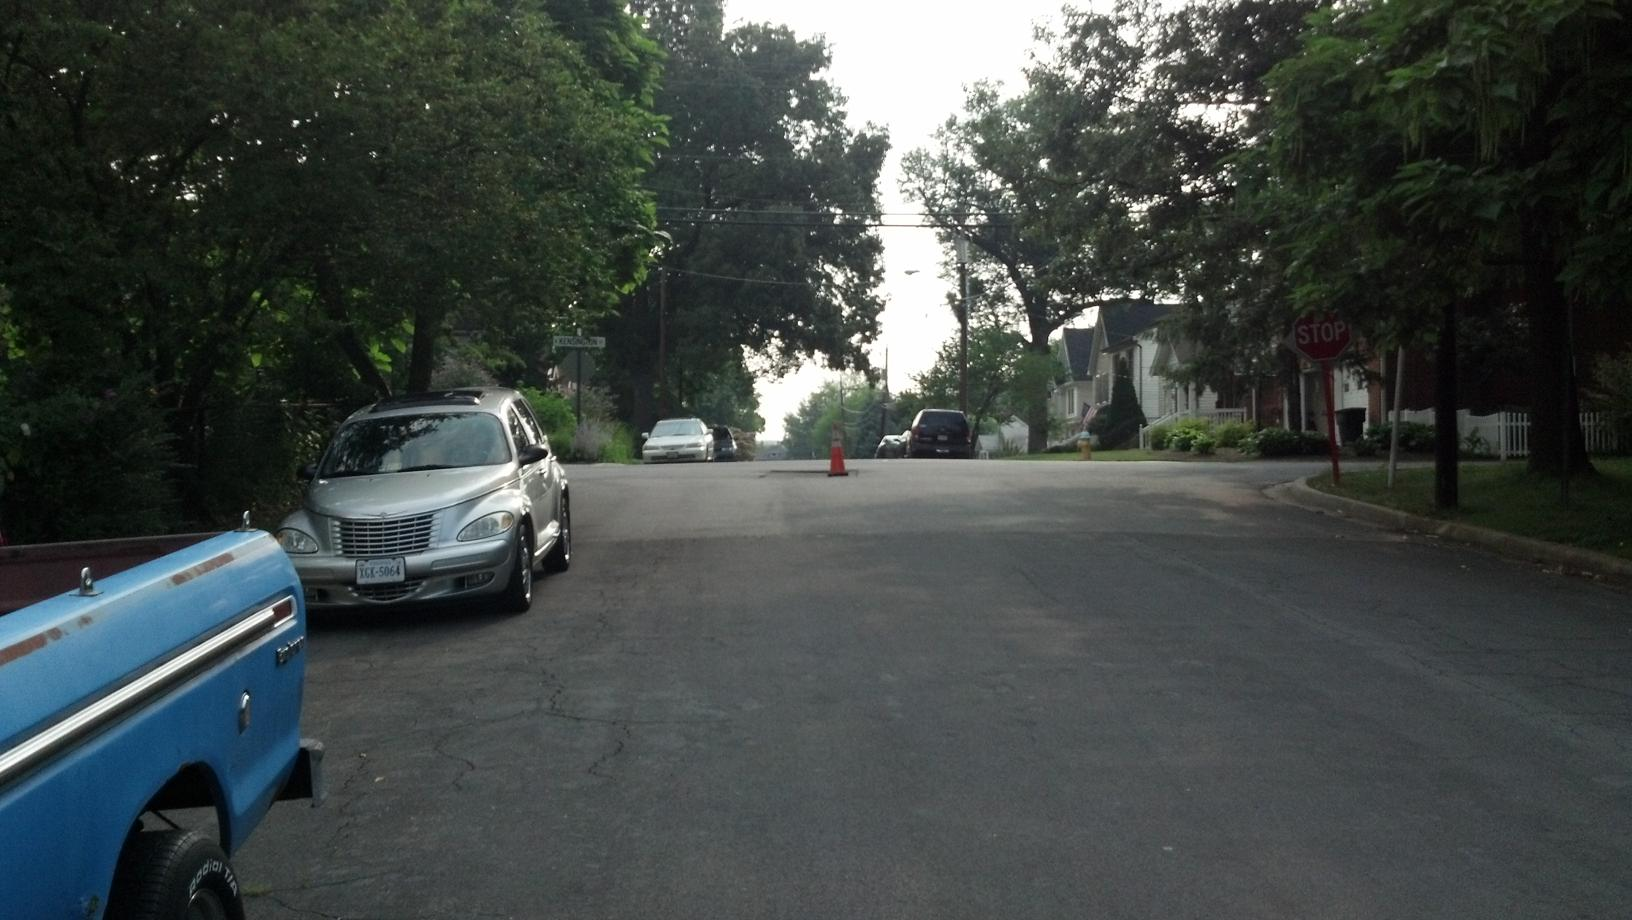car: (297, 392, 579, 619), (637, 403, 718, 462), (907, 408, 975, 456)
stop: (1293, 312, 1365, 371)
